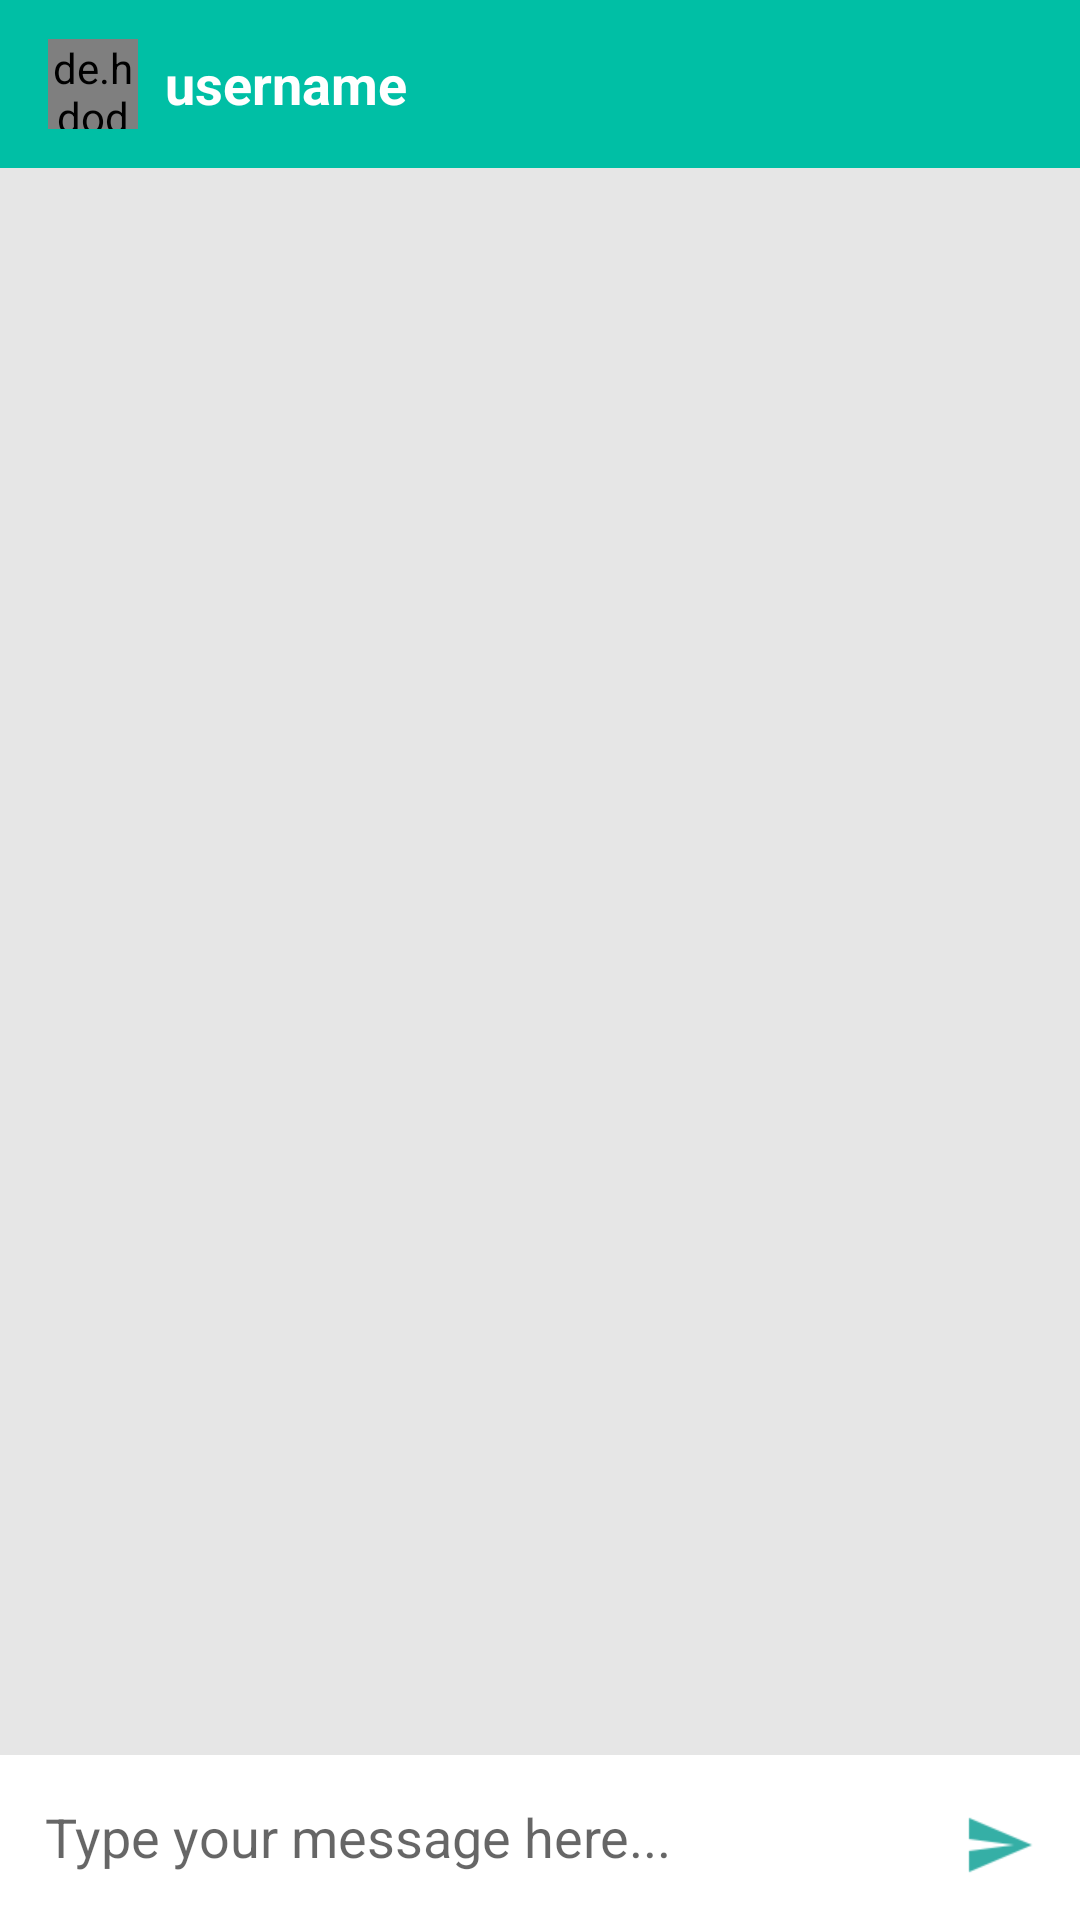

Icon bounding boxes for this 1080×1920 phone screenshot, format [x1,y1,x2,y2]:
send: [968,1818,1032,1872]
